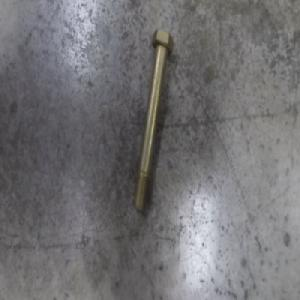Bolt: (131, 28, 174, 214)
